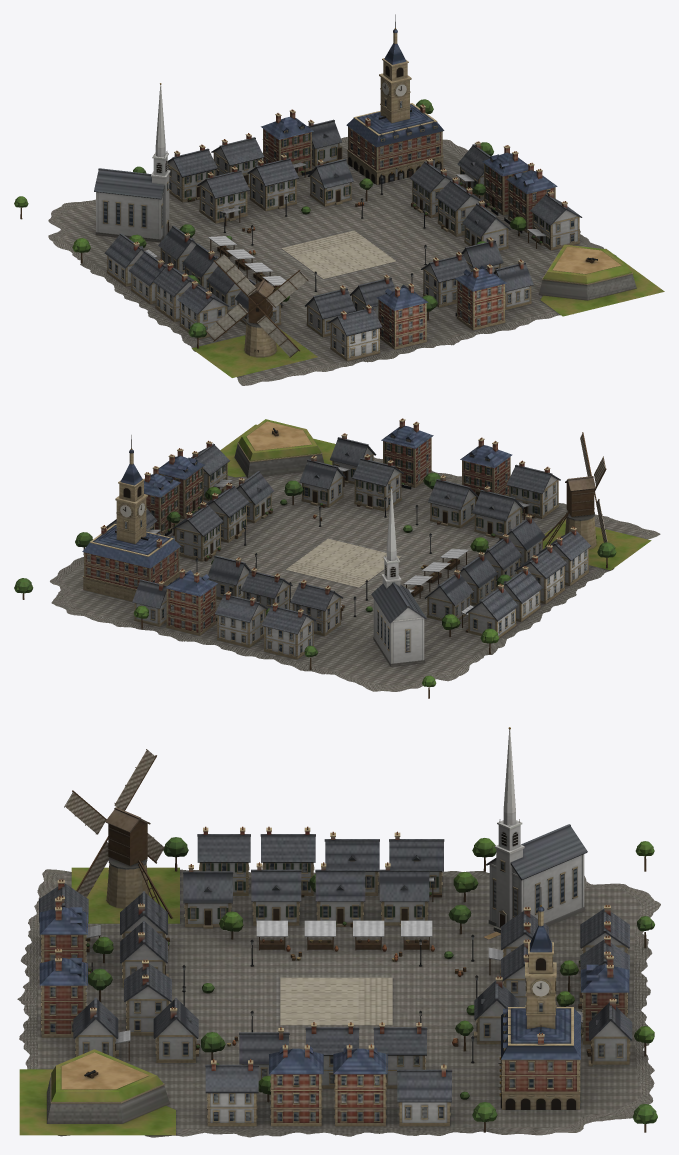
File: gunpowder-town-big-b-colonies.glb
3 views of the same model, one above another, from view 1: azimuth 30°, elevation 25°; view 2: azimuth 150°, elevation 25°; view 3: azimuth 270°, elevation 25° (orthographic). The views are drawn at different scales.
Visible parts, largest first — view 1: LOD0; view 2: LOD0; view 3: LOD0.
Part boxes in pixels (left/top/right/bottom): LOD0: left=14, top=14, right=664, bottom=385; LOD0: left=14, top=418, right=660, bottom=698; LOD0: left=17, top=727, right=660, bottom=1137.
Size of what is drawn, in the model's own units: 8.05 by 2.8 by 8.12.
Materials: 3 (3 with a texture image).
